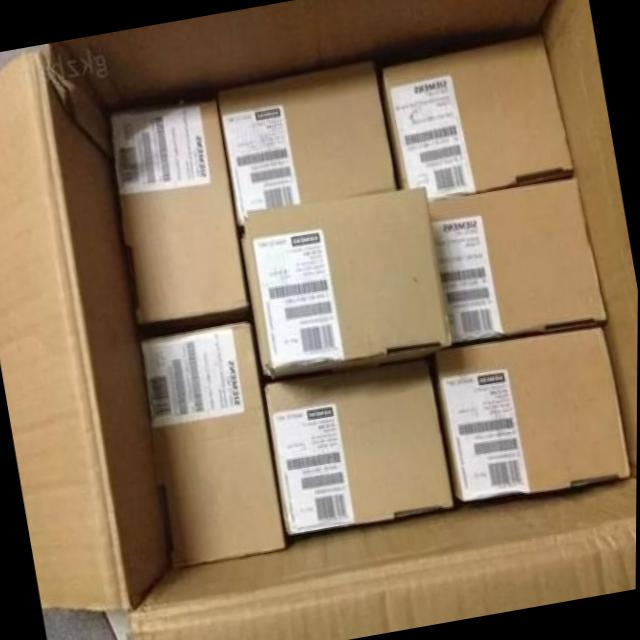box: (240, 185, 453, 378), (137, 320, 286, 569), (431, 326, 633, 501), (264, 358, 456, 536), (382, 32, 575, 199), (108, 101, 248, 323), (428, 176, 608, 343), (215, 63, 396, 226)
